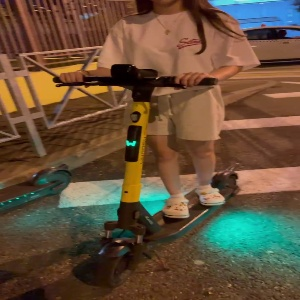human on a scooter: (52, 1, 262, 289)
